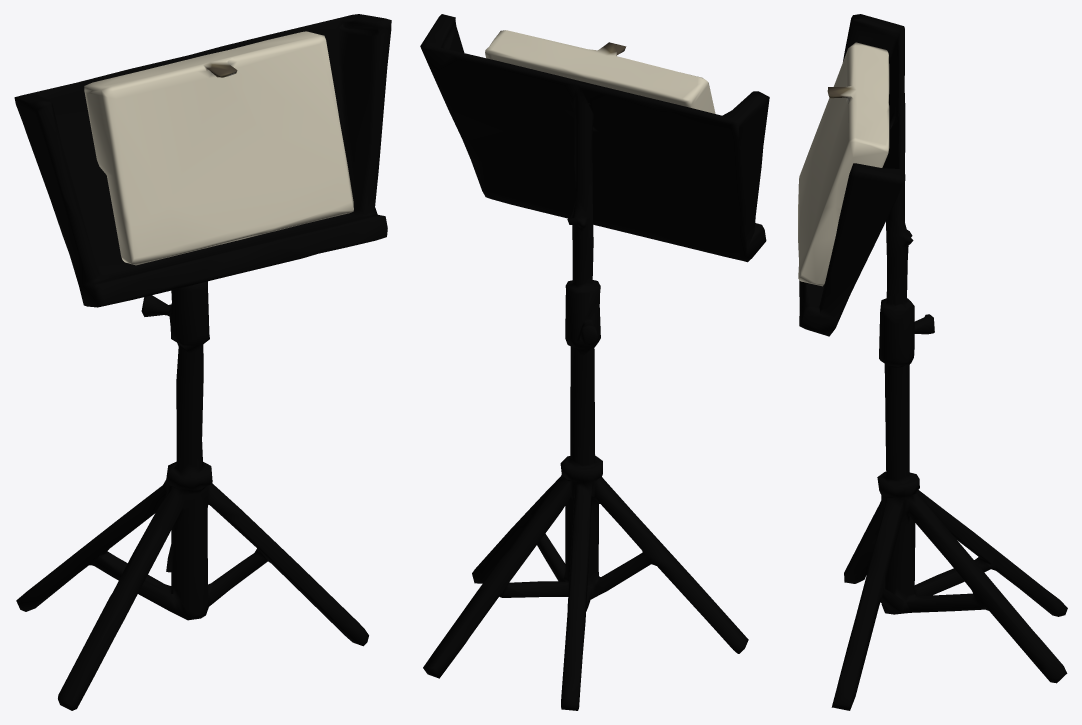
The model's file is gen3d-music-stand-lod0.glb.
3 views of the same model, side by side, from view 1: azimuth 30°, elevation 25°; view 2: azimuth 150°, elevation 25°; view 3: azimuth 270°, elevation 25° (orthographic). The views are drawn at different scales.
Parts seen in each view (by area): view 1: part_0; view 2: part_0; view 3: part_0.
Part boxes in pixels (box(x1,y1,x2,y2)): part_0: box(14, 14, 391, 710); part_0: box(420, 14, 769, 710); part_0: box(798, 14, 1067, 710).
Size of the model in its own units: 0.6093 by 0.9995 by 0.4389.
